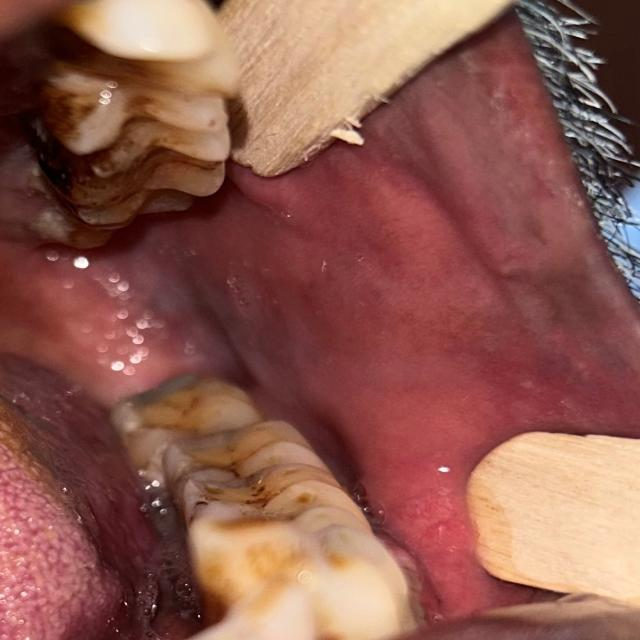leukoplakia-detection: (368, 39, 624, 416), (108, 258, 315, 395)
processing_area: (0, 24, 639, 640)
